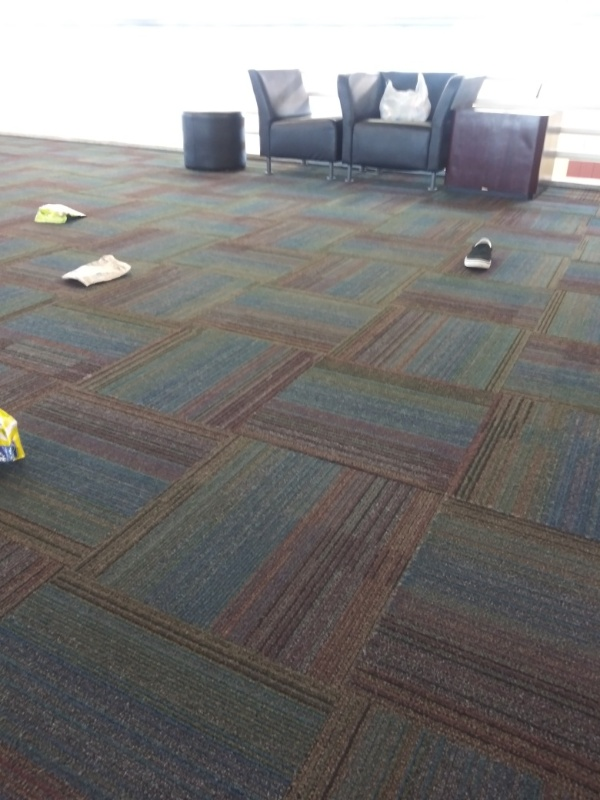bag: (58, 249, 139, 292), (24, 200, 94, 229), (1, 402, 30, 469)
